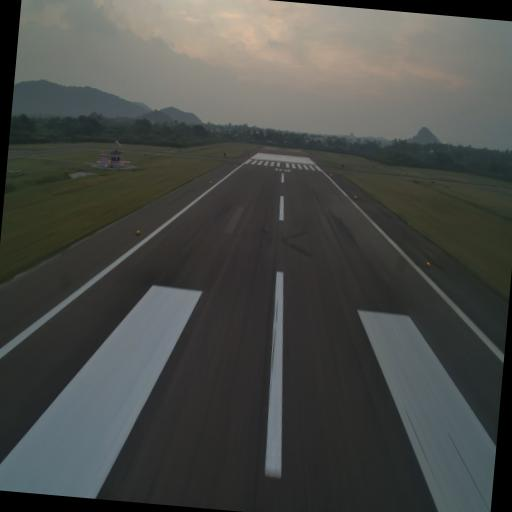on: (134, 225, 143, 238), (426, 258, 431, 268), (352, 194, 358, 200), (208, 178, 212, 185)
